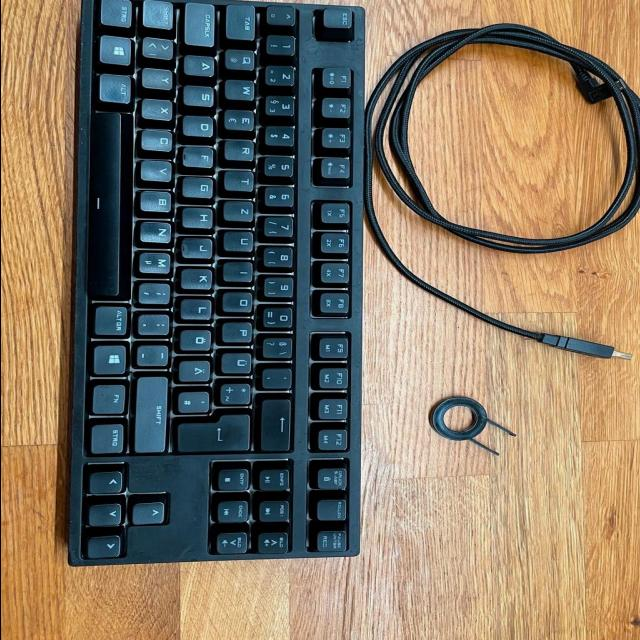0: (262, 303, 296, 329)
1: (268, 33, 298, 55)
2: (265, 64, 297, 86)
3: (265, 94, 297, 116)
4: (265, 124, 297, 146)
5: (264, 155, 298, 178)
6: (264, 184, 298, 208)
7: (264, 215, 297, 238)
8: (263, 245, 297, 269)
9: (264, 274, 298, 298)
a: (184, 54, 218, 76)
accent: (263, 366, 295, 389)
ae: (180, 359, 215, 382)
alt-left: (100, 72, 134, 104)
altgr-right: (95, 303, 131, 337)
b: (141, 189, 176, 213)
c: (143, 128, 176, 151)
caret: (268, 5, 298, 25)
comma: (140, 281, 174, 304)
d: (183, 115, 217, 137)
del: (261, 396, 293, 450)
e: (225, 109, 257, 131)
enter: (177, 411, 255, 451)
f: (183, 145, 217, 167)
g: (183, 176, 217, 198)
h: (183, 206, 217, 228)
hash: (178, 389, 214, 413)
i: (224, 260, 256, 282)
j: (183, 237, 217, 259)
k: (181, 267, 217, 290)
keyboard: (61, 0, 371, 568)
l: (181, 297, 216, 320)
less: (144, 35, 178, 58)
m: (139, 250, 175, 274)
minus: (137, 343, 172, 367)
n: (140, 220, 174, 243)
o: (223, 290, 257, 313)
oe: (179, 327, 215, 351)
p: (223, 321, 255, 343)
plus: (219, 380, 255, 404)
point: (138, 312, 173, 335)
q: (225, 48, 258, 70)
r: (225, 139, 257, 161)
s: (184, 84, 217, 106)
shift-left: (144, 0, 176, 28)
shift-lock: (185, 2, 217, 46)
shift-right: (136, 374, 171, 452)
space: (89, 111, 125, 299)
ss: (263, 335, 296, 359)
strg-left: (101, 1, 135, 27)
strg-right: (92, 421, 128, 454)
t: (225, 169, 257, 191)
tab: (227, 4, 257, 40)
u: (224, 230, 256, 252)
ue: (221, 351, 255, 374)
v: (142, 159, 176, 182)
w: (226, 78, 258, 100)
x: (143, 98, 176, 120)
y: (143, 67, 176, 89)
z: (224, 200, 257, 222)
